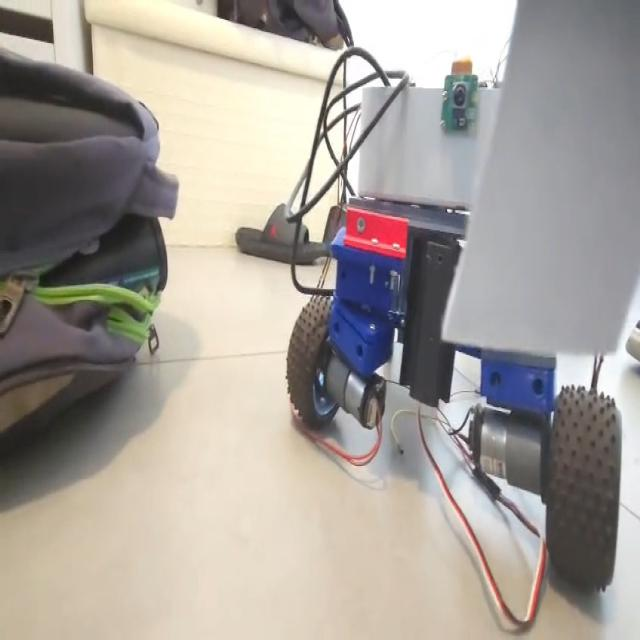Robot: (287, 69, 622, 590)
